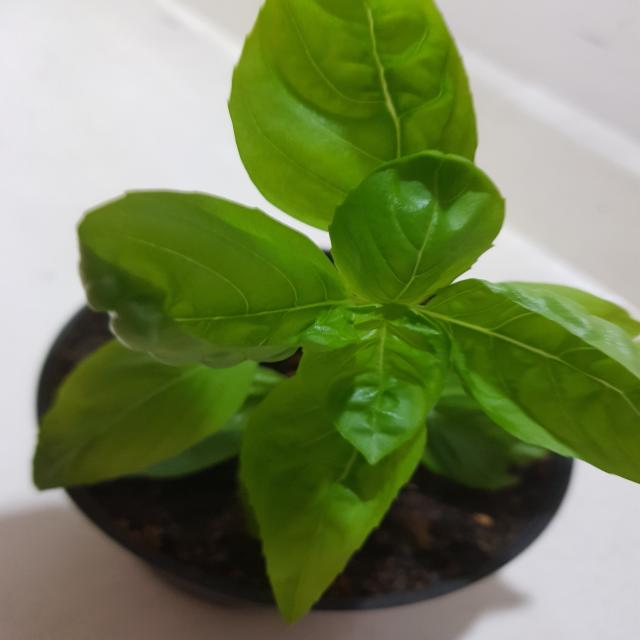Sweet Basil: (45, 2, 640, 637)
